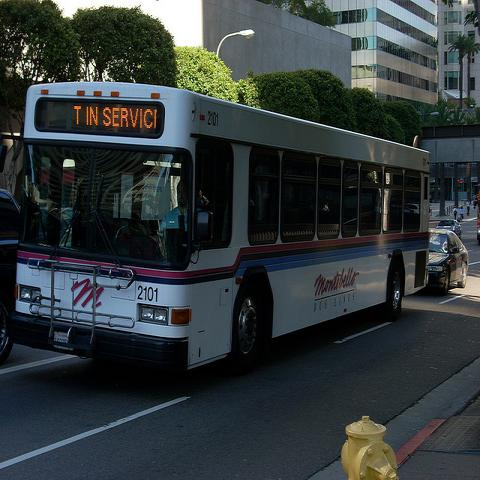bus: (6, 80, 431, 374)
car: (427, 228, 469, 295), (436, 219, 462, 239)
